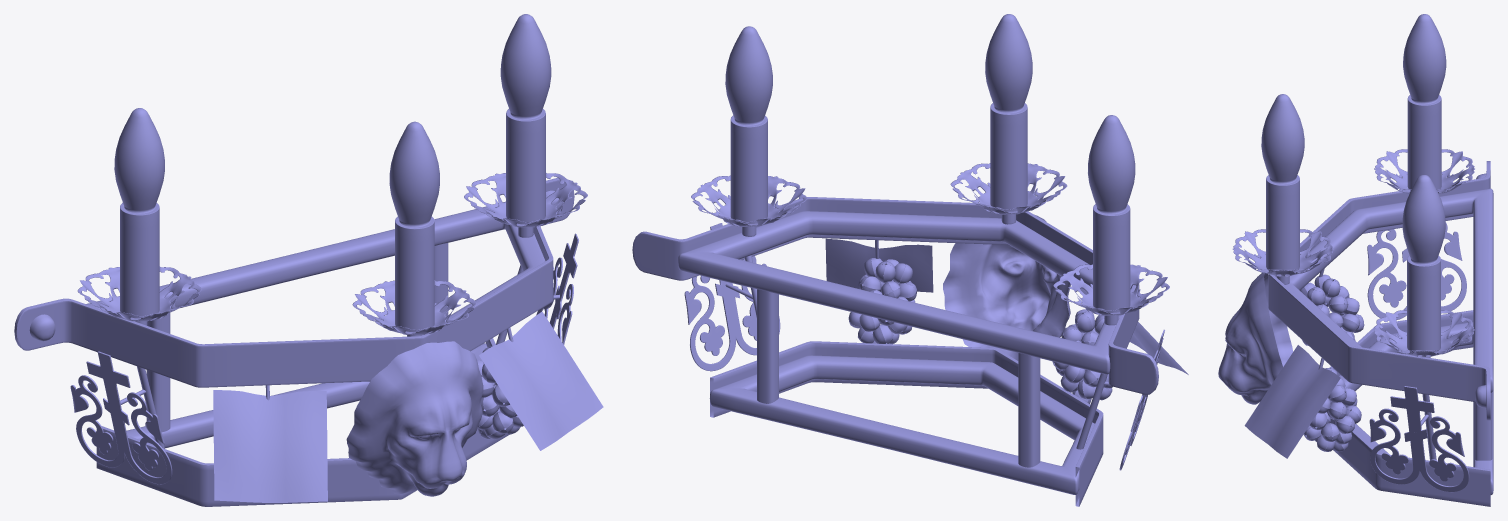
File: Chandelier_235_3A.obj
3 renders of one model, left to right at view 1: azimuth 30°, elevation 25°; view 2: azimuth 150°, elevation 25°; view 3: azimuth 270°, elevation 25°, orthographic. The views are drawn at different scales.
Parts seen in each view (by area): view 1: Chandelier_235_3A; view 2: Chandelier_235_3A; view 3: Chandelier_235_3A.
Part boxes in pixels (bbox=[...]): Chandelier_235_3A: bbox=[14, 14, 603, 506]; Chandelier_235_3A: bbox=[632, 14, 1188, 506]; Chandelier_235_3A: bbox=[1218, 14, 1493, 506].
Bounding box in the file's own units: 425 × 281 × 212.
